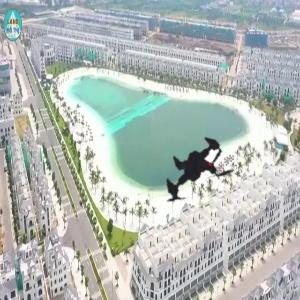drone: (141, 117, 258, 234)
